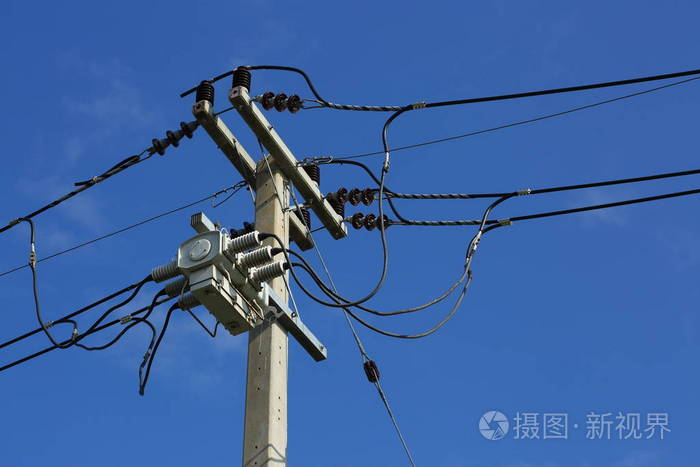insulator: (154, 120, 194, 155), (264, 91, 302, 113), (336, 187, 377, 205), (354, 213, 390, 232)
